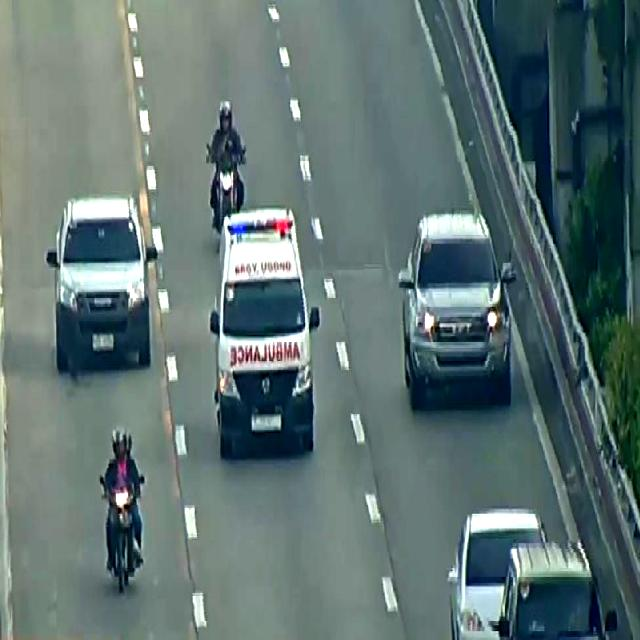emergency: (211, 208, 319, 458)
